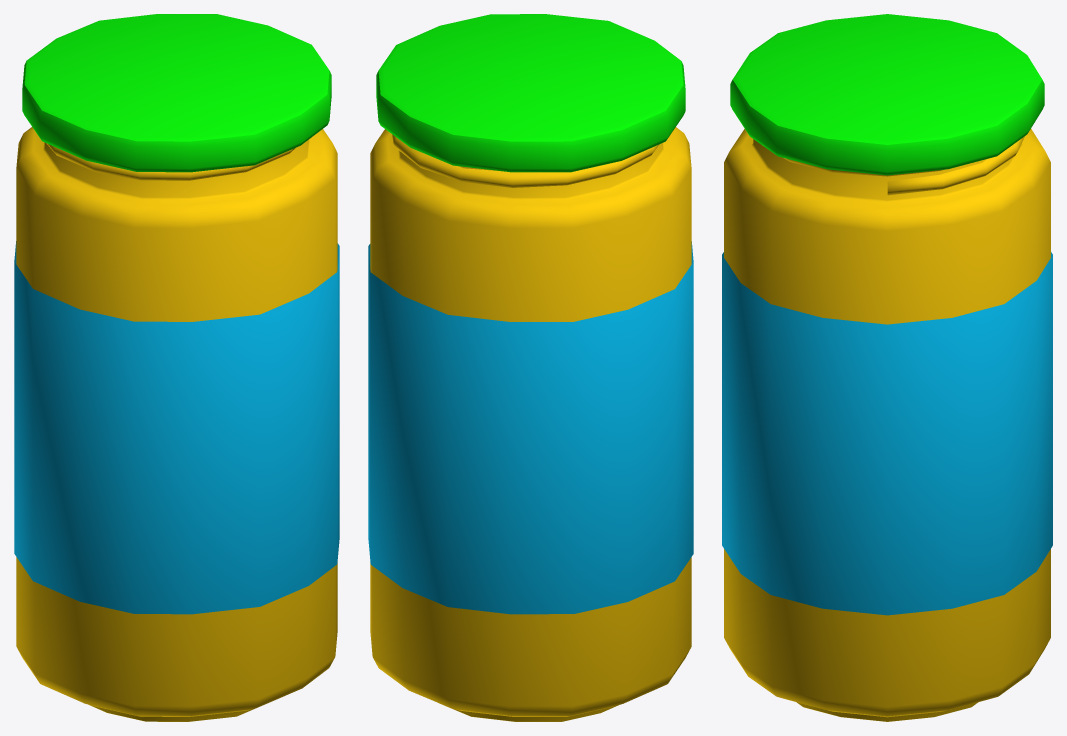
The model's file is Glass Bottle 02.fbx.
3 views of the same model, side by side, from view 1: azimuth 30°, elevation 25°; view 2: azimuth 150°, elevation 25°; view 3: azimuth 270°, elevation 25° (orthographic).
Visible parts, largest first — view 1: Glass_bottle_02 New; view 2: Glass_bottle_02 New; view 3: Glass_bottle_02 New.
Boxes of the visible parts, x1,y1,x2,y2 form: Glass_bottle_02 New: (14,14,339,721); Glass_bottle_02 New: (368,14,693,721); Glass_bottle_02 New: (722,14,1052,721).
Size of the model in its own units: 14.98 by 14.98 by 29.68.
